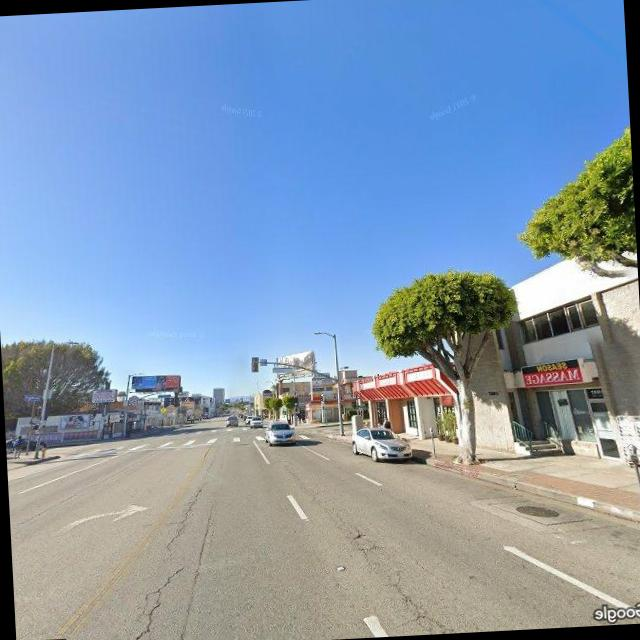pothole: (99, 485, 219, 640)
